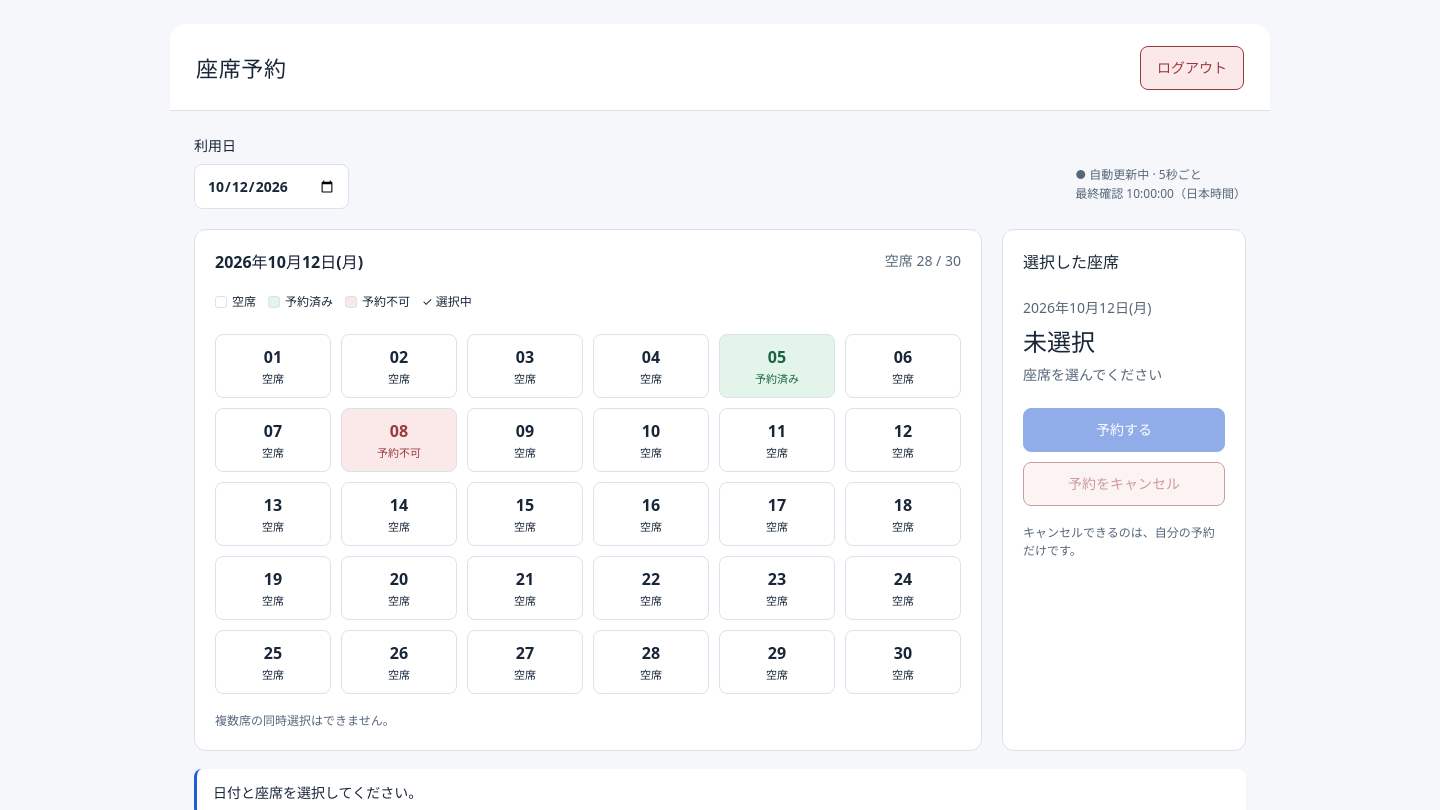
マトリクス：画面と実APIクライアント（fetch境界のみ代替） › [SEAT-02][SEAT-03] 座席1選択は書き込みなし
Click the button with aria-label "座席1、". click: (273, 366)
box: x1=215 y1=334 x2=331 y2=398
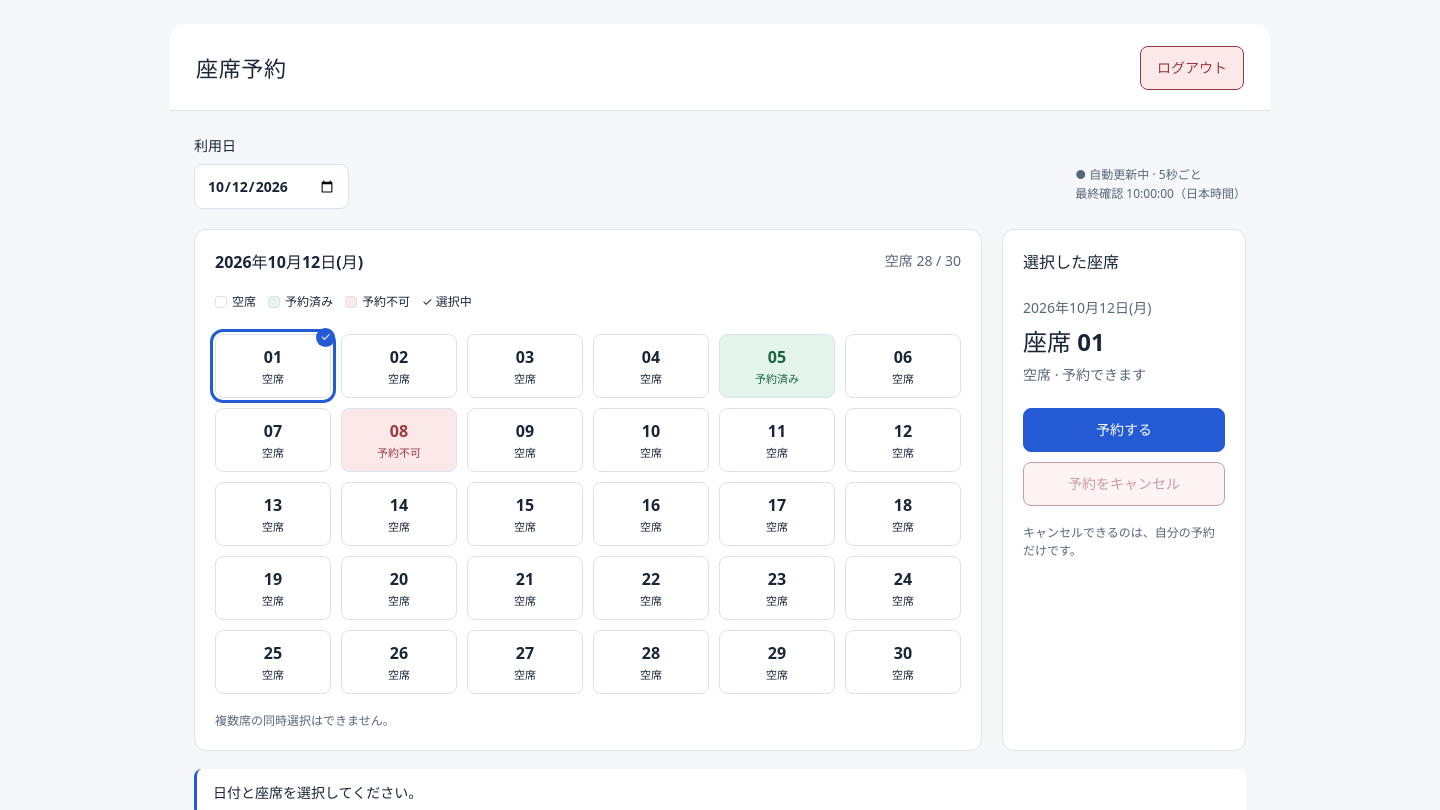
Check: the text with class "selection-mark" reads "✓", box x1=320 y1=328 x2=331 y2=345
Check: the text "座席 01" is shown, box x1=1023 y1=325 x2=1105 y2=358
Check: the button "予約する" is enabled, box x1=1023 y1=408 x2=1225 y2=452
